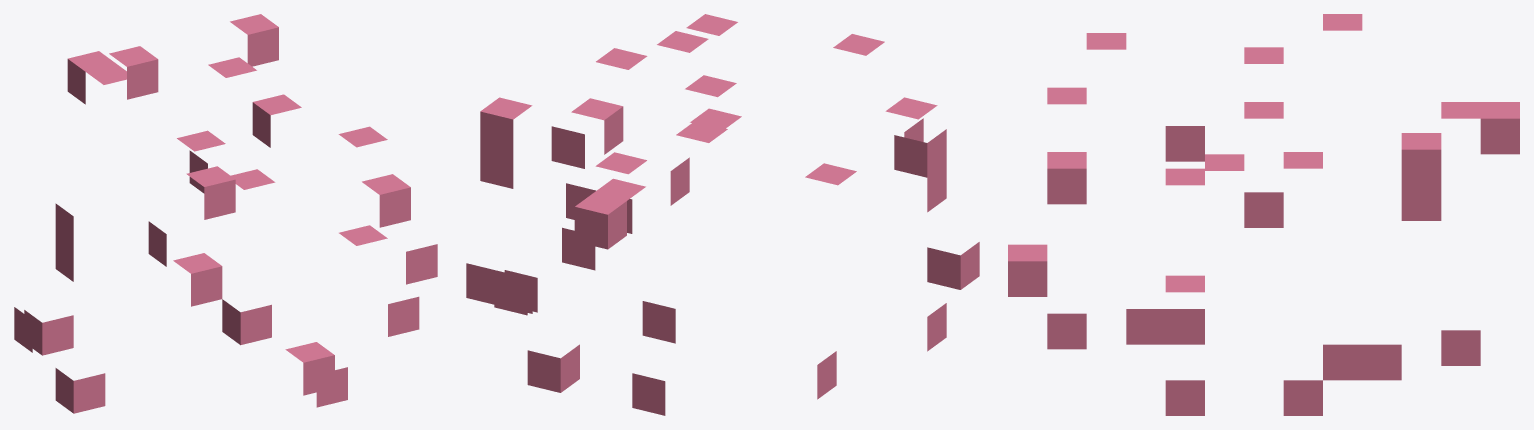
The model's file is tree-cherry-0p9-pink1-e77fa0.gltf.
The picture shows the model from 3 angles, left to right: view 1: azimuth 30°, elevation 25°; view 2: azimuth 150°, elevation 25°; view 3: azimuth 270°, elevation 25°; orthographic projection. The views are drawn at different scales.
Visible parts, largest first — view 1: tree-cherry-0p9-pink1-e77fa0; view 2: tree-cherry-0p9-pink1-e77fa0; view 3: tree-cherry-0p9-pink1-e77fa0.
Boxes of the visible parts, left/top/right/bottom form: tree-cherry-0p9-pink1-e77fa0: left=14, top=14, right=437, bottom=413; tree-cherry-0p9-pink1-e77fa0: left=466, top=14, right=979, bottom=415; tree-cherry-0p9-pink1-e77fa0: left=1008, top=14, right=1519, bottom=415.
Bounding box in the file's own units: 12 × 9 × 13.
